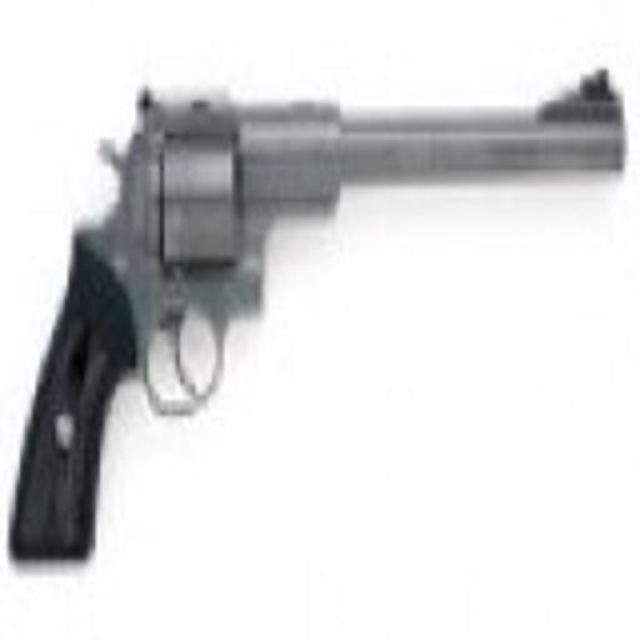pistol: (7, 64, 627, 560)
